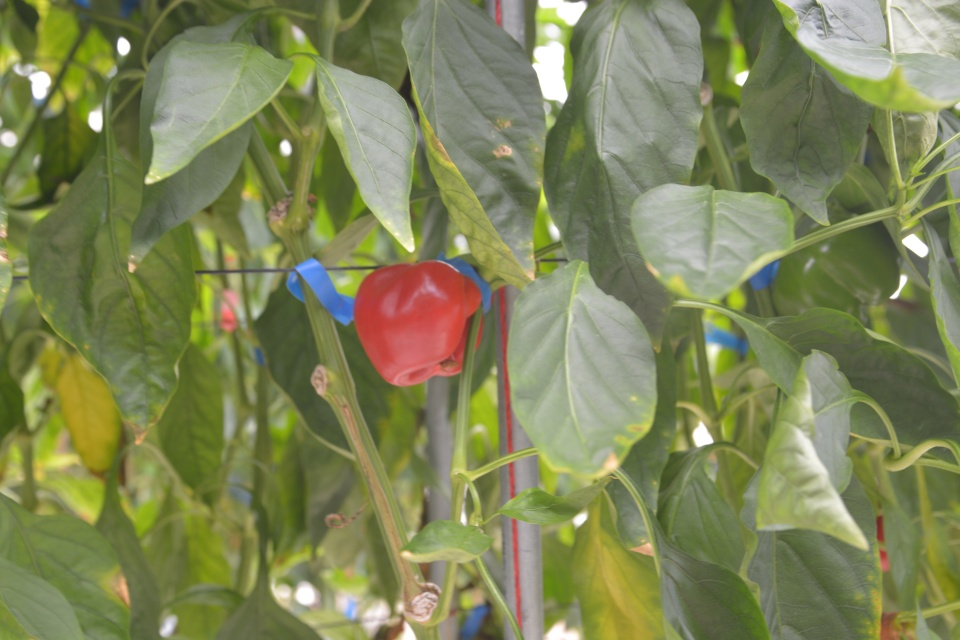fruit: (351, 257, 485, 388), (767, 205, 901, 327)
